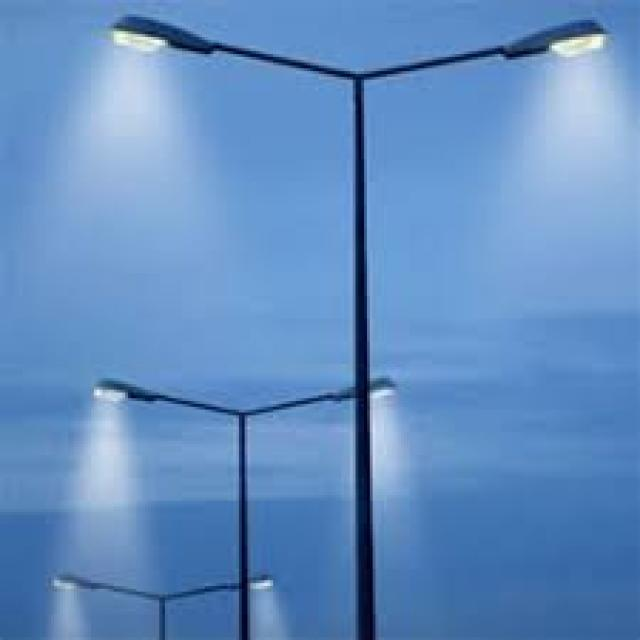Street Light: (108, 14, 609, 640), (91, 375, 395, 640), (51, 569, 273, 640)
